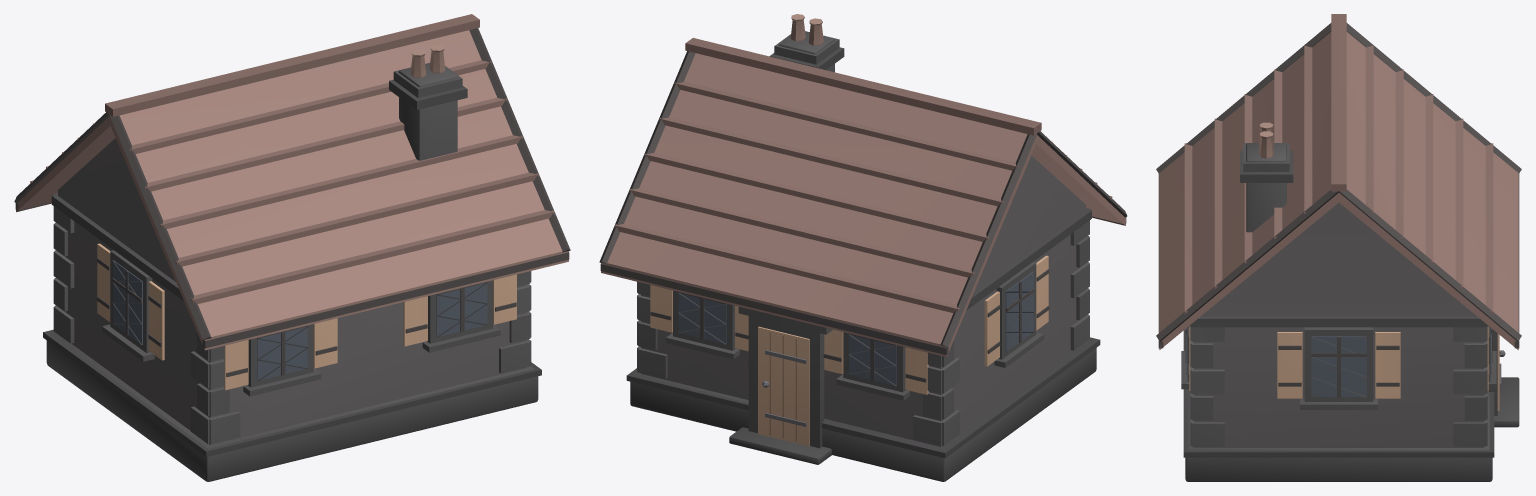
File: cottage_cinder.gltf
3 views of the same model, side by side, from view 1: azimuth 30°, elevation 25°; view 2: azimuth 150°, elevation 25°; view 3: azimuth 270°, elevation 25° (orthographic). The views are drawn at different scales.
Visible parts, largest first — view 1: Body; view 2: Body; view 3: Body.
Boxes of the visible parts, x1,y1,x2,y2 form: Body: (14,14,570,481); Body: (599,14,1127,481); Body: (1156,14,1521,481).
Bounding box in the file's own units: 6.97 × 6.12 × 6.32.
